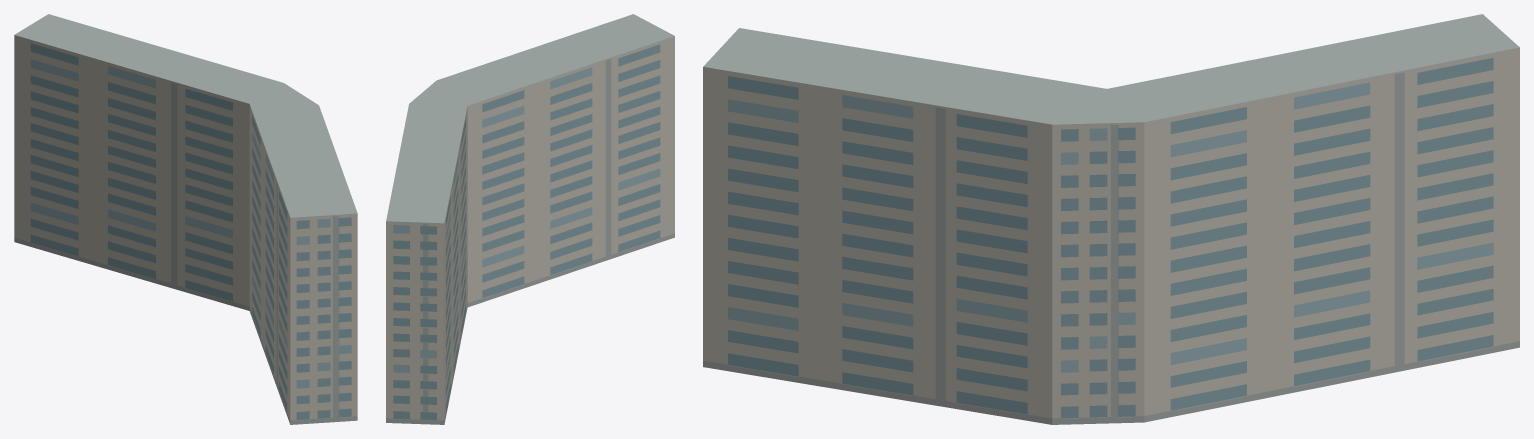
The model's file is residential-db653490-24b7-456b-84e1-8d8e7712fcf4.glb.
The picture shows the model from 3 angles, left to right: view 1: azimuth 30°, elevation 25°; view 2: azimuth 150°, elevation 25°; view 3: azimuth 270°, elevation 25°; orthographic projection. The views are drawn at different scales.
Parts seen in each view (by area): view 1: residential-db653490-24b7-456b-84e1-8d8e7712fcf4.tmp; view 2: residential-db653490-24b7-456b-84e1-8d8e7712fcf4.tmp; view 3: residential-db653490-24b7-456b-84e1-8d8e7712fcf4.tmp.
Boxes of the visible parts, x1,y1,x2,y2 form: residential-db653490-24b7-456b-84e1-8d8e7712fcf4.tmp: (14,14,357,424); residential-db653490-24b7-456b-84e1-8d8e7712fcf4.tmp: (386,14,674,424); residential-db653490-24b7-456b-84e1-8d8e7712fcf4.tmp: (703,14,1519,424).
Size of the model in its own units: 28.47 by 36 by 88.75.
